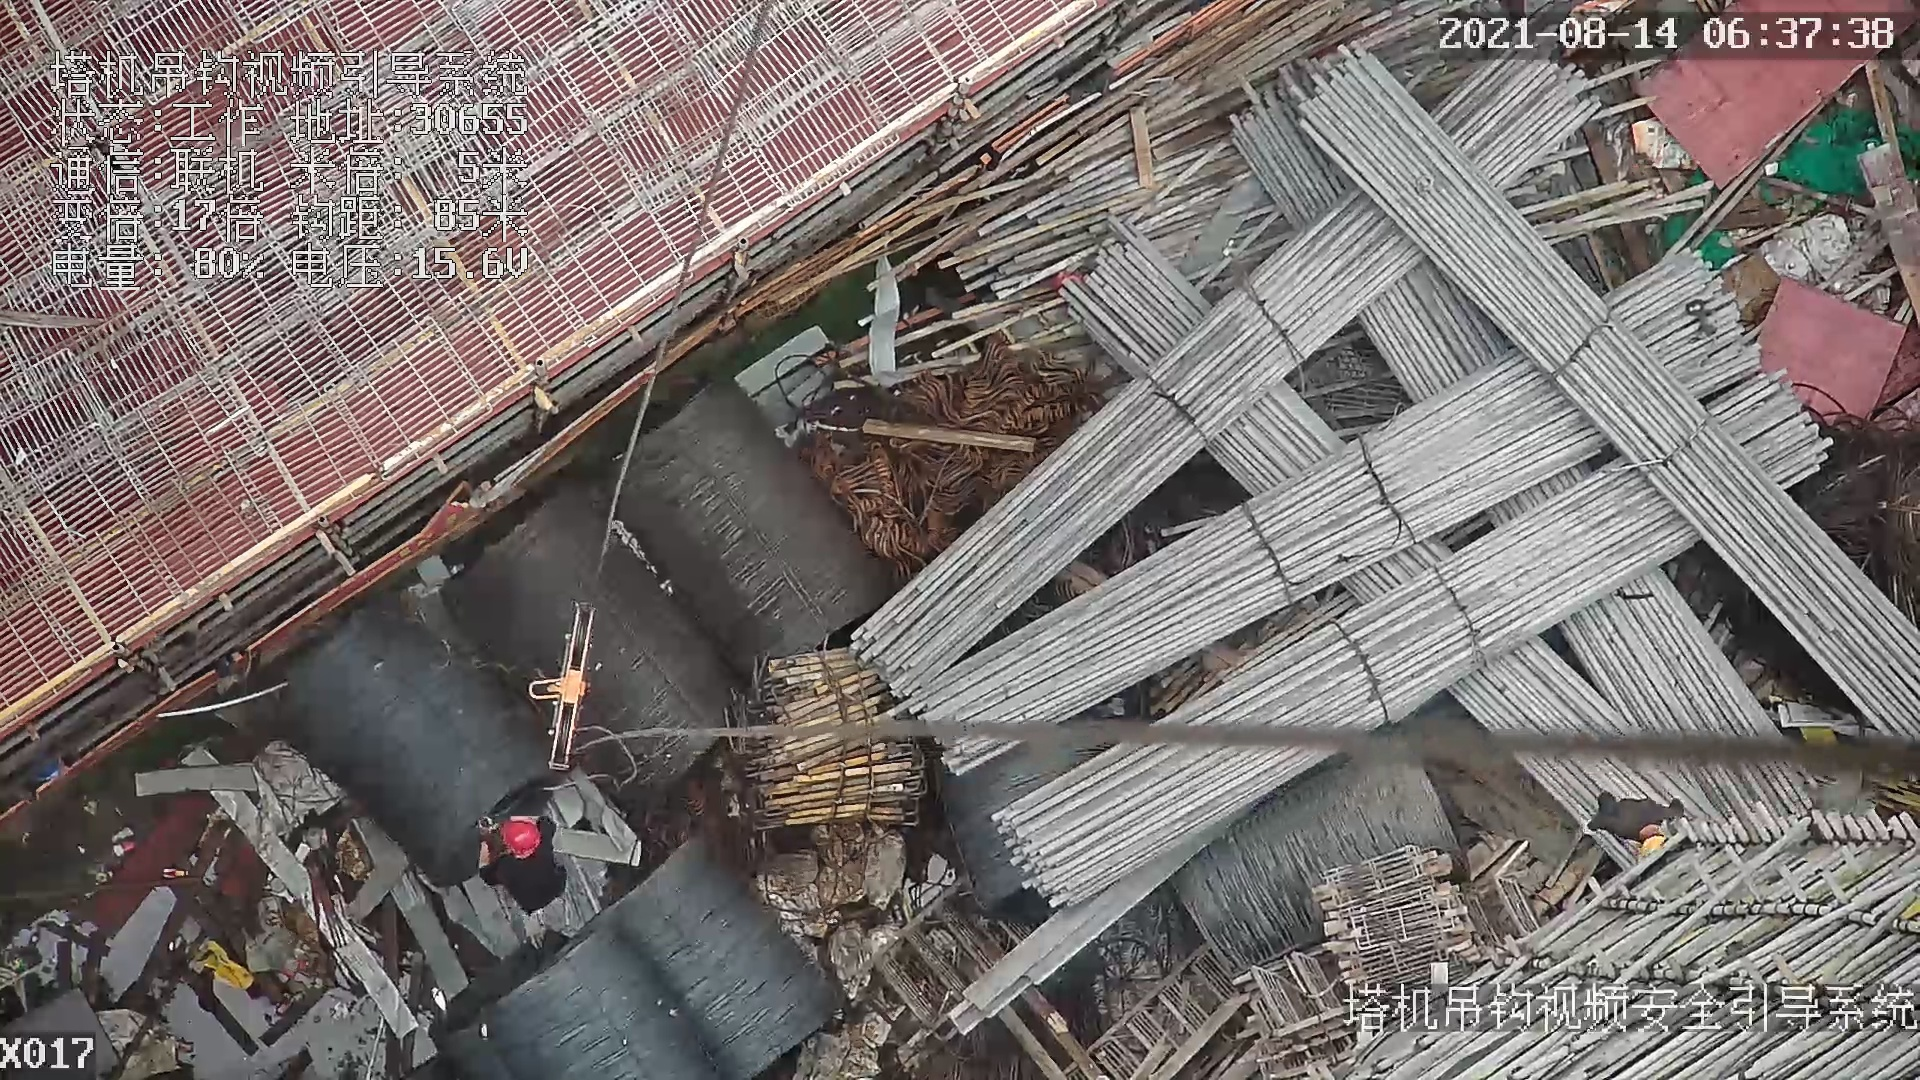helmet: (495, 817, 540, 858)
hook: (528, 597, 594, 774)
person: (476, 818, 573, 917), (1576, 786, 1695, 851)
scaffold: (932, 31, 1913, 814), (708, 659, 959, 826)
